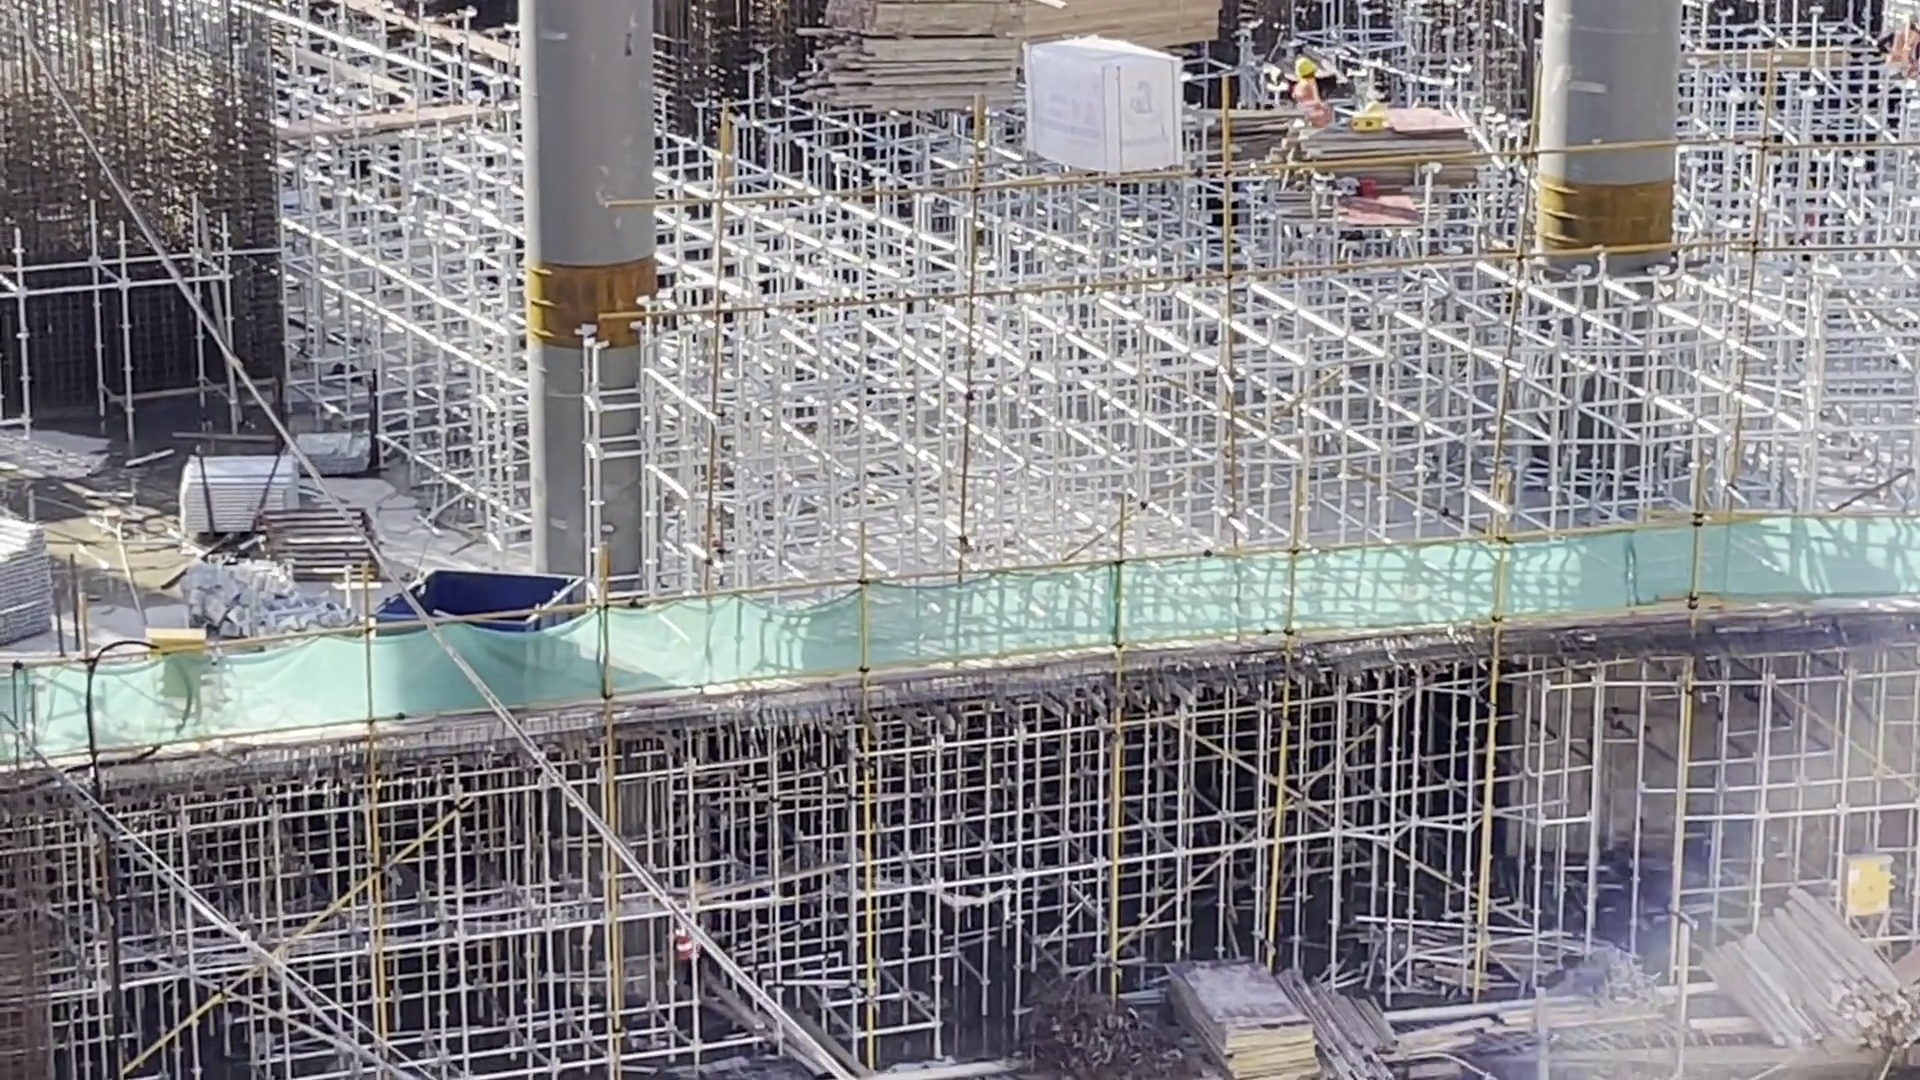board: (1166, 952, 1323, 1080), (1284, 105, 1488, 197)
ebox: (1836, 848, 1897, 923), (140, 624, 211, 652)
helmet: (1296, 58, 1319, 77)
hopper: (373, 565, 592, 611)
person: (1290, 57, 1341, 126)
scaffold: (177, 454, 255, 545)
vest: (1294, 80, 1333, 127)
wood: (1701, 880, 1920, 1054), (797, 5, 1022, 117), (1318, 979, 1409, 1080), (1026, 4, 1223, 48)
